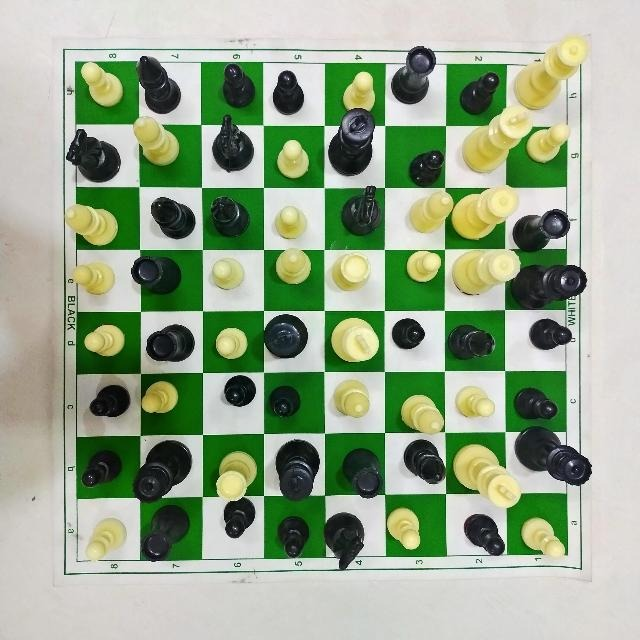black-bishop: (134, 52, 184, 116), (443, 318, 505, 368), (402, 433, 452, 493), (146, 192, 196, 250), (207, 188, 253, 241)
black-king: (325, 108, 378, 178), (271, 432, 323, 503), (261, 311, 316, 363)
black-knight: (58, 125, 129, 183), (337, 174, 383, 246), (212, 113, 260, 177), (320, 507, 364, 572)
black-pawn: (458, 66, 505, 124), (462, 507, 510, 563), (526, 319, 594, 357), (512, 381, 567, 422), (79, 440, 126, 487), (265, 377, 307, 429), (218, 499, 260, 551), (271, 58, 308, 116), (219, 61, 258, 116), (405, 139, 450, 186), (82, 378, 132, 420), (272, 514, 313, 560), (218, 371, 264, 407), (394, 311, 422, 353)
black-queen: (512, 423, 599, 488), (511, 257, 591, 311), (129, 436, 192, 504)
black-rook: (143, 500, 191, 563), (513, 204, 573, 254), (391, 44, 436, 108), (126, 251, 185, 298), (341, 444, 383, 502), (144, 322, 198, 363)
white-bishop: (54, 198, 126, 248), (133, 110, 185, 173), (407, 190, 455, 237), (398, 388, 445, 435), (273, 245, 319, 292), (332, 376, 374, 424)
white-king: (450, 436, 528, 511), (460, 104, 531, 178), (330, 317, 384, 365)
white-pawn: (77, 507, 132, 568), (521, 511, 571, 568), (77, 57, 126, 113), (381, 502, 424, 557), (525, 119, 571, 169), (70, 253, 120, 296), (275, 135, 317, 181), (208, 253, 251, 297), (405, 244, 445, 291), (78, 320, 127, 358), (274, 201, 314, 245), (139, 378, 183, 417), (338, 71, 378, 113), (454, 383, 498, 421), (214, 323, 252, 366)
white-queen: (512, 41, 587, 111), (451, 183, 524, 241), (450, 249, 523, 301)
white-rook: (212, 449, 262, 501), (331, 253, 379, 297)
